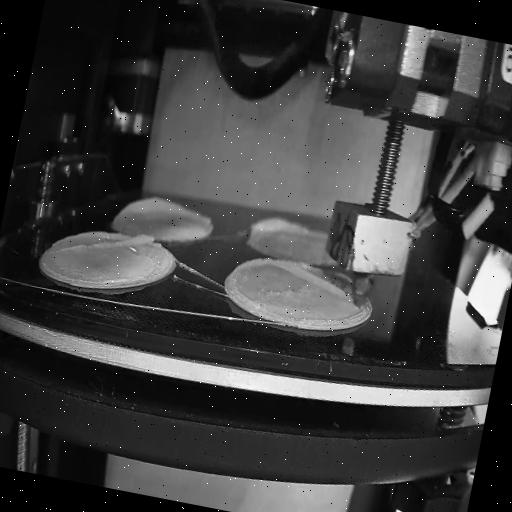over_extrusion: (58, 214, 158, 270), (116, 184, 216, 236), (274, 258, 352, 300), (246, 210, 315, 253)
